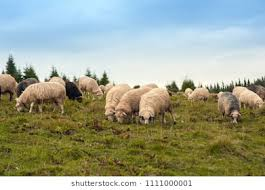sheep: (13, 82, 65, 116), (138, 88, 176, 127), (115, 83, 141, 124), (235, 81, 264, 114), (216, 91, 243, 126), (103, 80, 118, 131), (78, 75, 105, 101), (188, 86, 209, 106)
